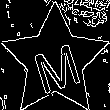M_N: (27, 30, 83, 92)
